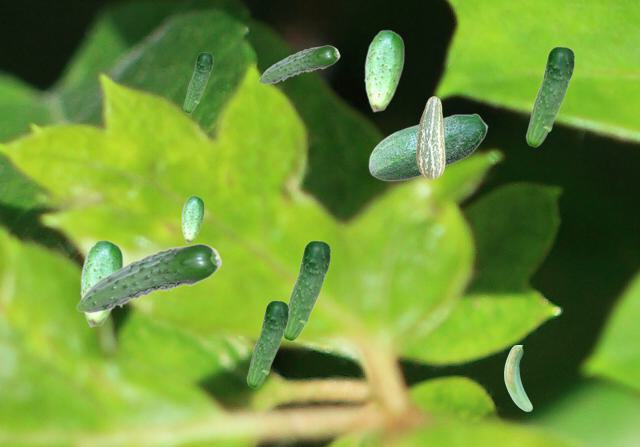cucumber: (76, 243, 221, 312), (368, 113, 487, 180), (525, 46, 574, 146), (283, 240, 330, 340), (80, 239, 122, 326), (246, 300, 288, 387), (364, 29, 403, 111), (258, 45, 339, 83), (416, 96, 444, 178), (504, 345, 531, 410), (183, 52, 212, 112), (181, 195, 203, 242)
